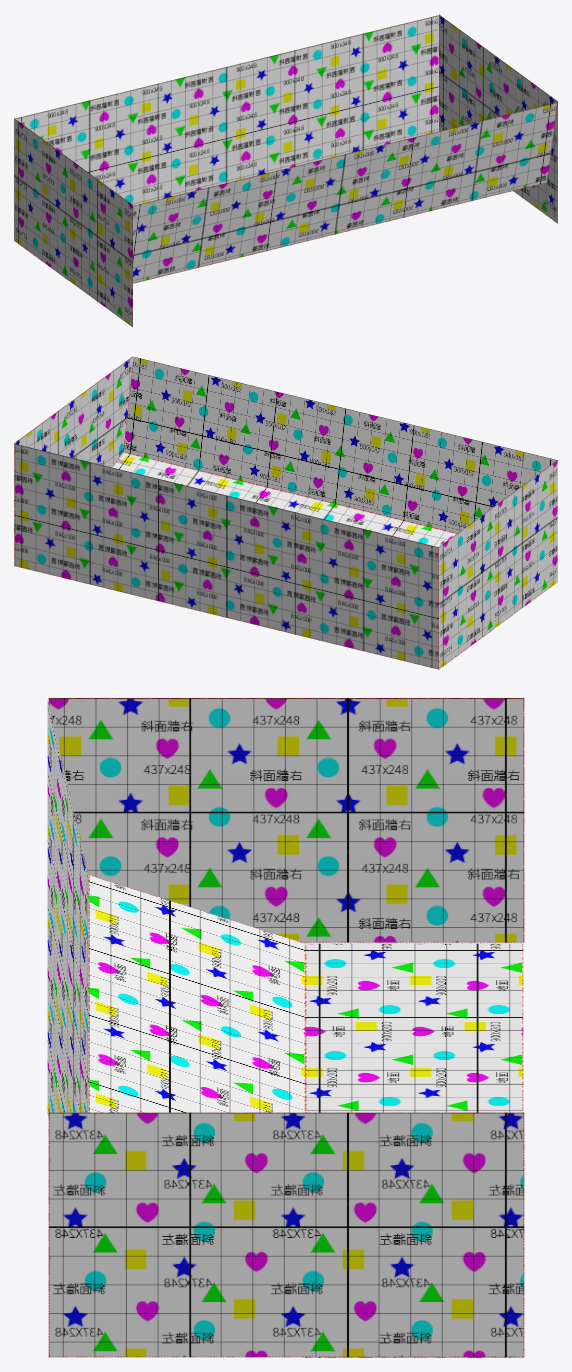
Rendered from NTNU_Room.fbx.
3 renders of one model, top to bottom at view 1: azimuth 30°, elevation 25°; view 2: azimuth 150°, elevation 25°; view 3: azimuth 270°, elevation 25°, orthographic. The views are drawn at different scales.
Parts seen in each view (by area): view 1: pPlane4, pPlane5, pPlane9, pPlane8; view 2: pPlane4, pPlane5, pPlane9, pPlane8, pPlane6; view 3: pPlane8, pPlane9, pPlane6, pPlane3, pPlane5.
Part boxes in pixels (left/top/right/bottom): pPlane4: left=15, top=15, right=438, bottom=206; pPlane5: left=133, top=102, right=557, bottom=283; pPlane9: left=14, top=118, right=132, bottom=327; pPlane8: left=439, top=14, right=557, bottom=223; pPlane4: left=14, top=444, right=438, bottom=669; pPlane5: left=123, top=357, right=557, bottom=533; pPlane9: left=438, top=460, right=557, bottom=668; pPlane8: left=14, top=356, right=132, bottom=565; pPlane6: left=112, top=452, right=493, bottom=629; pPlane8: left=48, top=1112, right=524, bottom=1357; pPlane9: left=48, top=698, right=524, bottom=942; pPlane6: left=88, top=875, right=305, bottom=1357; pPlane3: left=305, top=943, right=523, bottom=1357; pPlane5: left=47, top=700, right=88, bottom=1116.
Size of the model in its own units: 901 by 249 by 438.
Materials: 6 (6 with a texture image).
